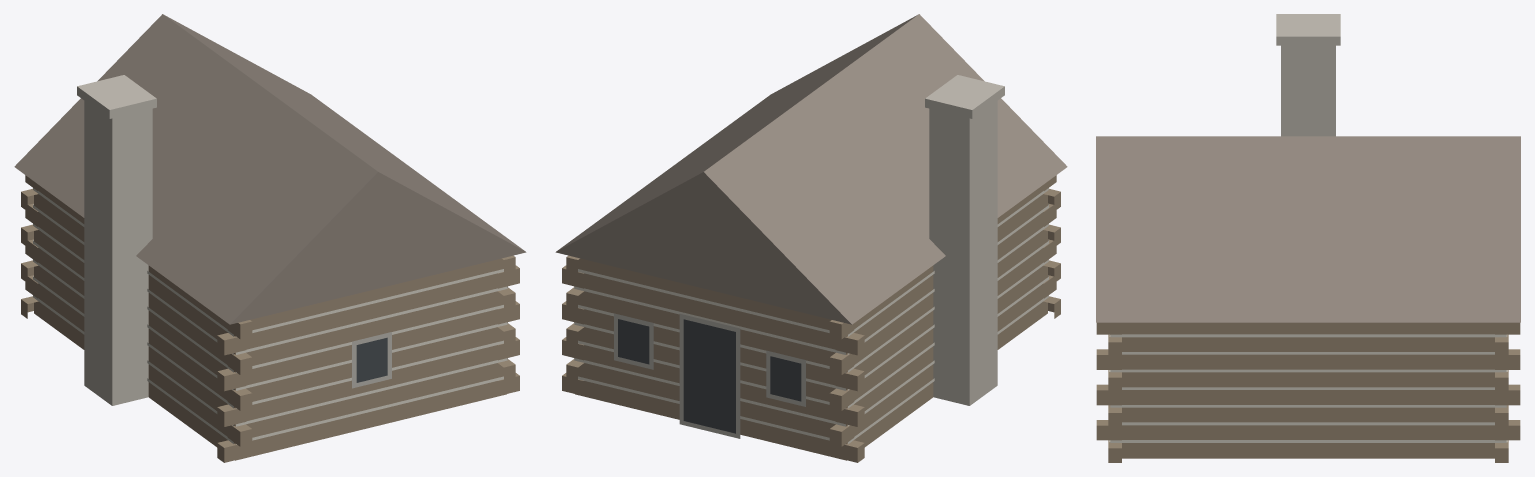
File: recon_1835_north_d1_013__inferred_1835.glb
3 views of the same model, side by side, from view 1: azimuth 30°, elevation 25°; view 2: azimuth 150°, elevation 25°; view 3: azimuth 270°, elevation 25° (orthographic).
Parts seen in each view (by area): view 1: recon_1835_north_d1_013__inferred_1835; view 2: recon_1835_north_d1_013__inferred_1835; view 3: recon_1835_north_d1_013__inferred_1835.
Boxes of the visible parts, box(x1,y1,x2,y2) form: recon_1835_north_d1_013__inferred_1835: box(14, 14, 526, 462); recon_1835_north_d1_013__inferred_1835: box(555, 14, 1067, 462); recon_1835_north_d1_013__inferred_1835: box(1096, 14, 1520, 462).
Size of the model in its own units: 6.47 by 5.74 by 7.42.
